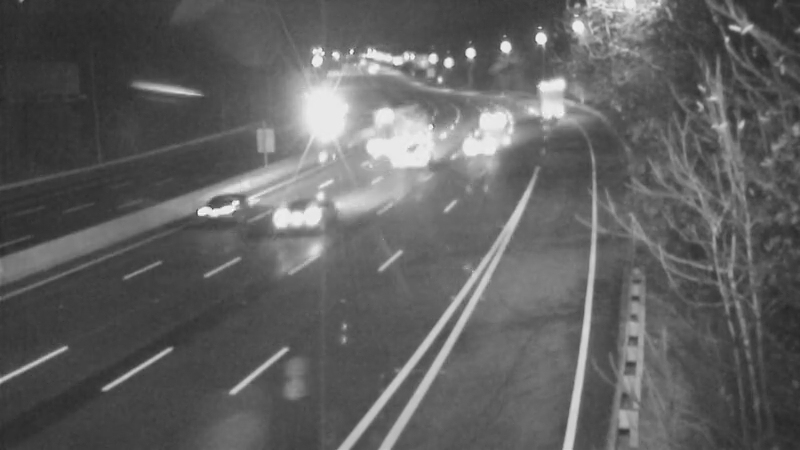vehicle: (370, 115, 450, 195), (256, 165, 336, 245), (184, 161, 264, 241), (513, 71, 563, 121), (467, 92, 517, 142), (364, 97, 414, 147), (453, 112, 503, 162), (290, 88, 340, 138)
